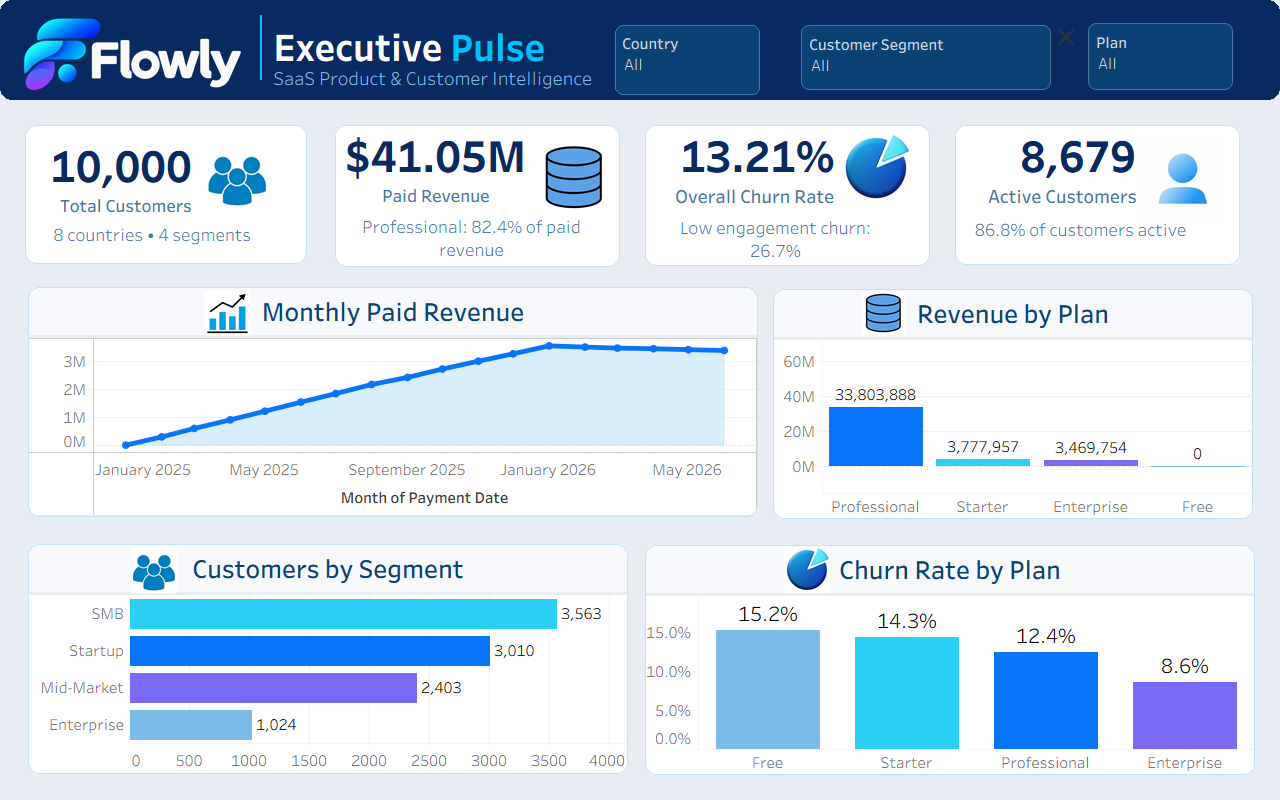

What the dashboard file says about the page in this screenshot:
{"tool":"tableau","page":{"name":"Flowly Executive Pulse","canvas":[1280,800],"ordinal":0},"visuals":[{"type":"image","param":"C:/Users/sneha/Downloads/Glossy Flowly Gradient Logo.png","box":[15,9,230,91]},{"type":"blank","box":[260,15,2,65]},{"type":"filter","title":"Revenue by Plan ","param":"[federated.186rmt7171jtv319xoaxd0jz2uva].[none:plan:nk]","box":[1088,23,145,67]},{"type":"filter","title":"Monthly Paid Revenue","param":"[federated.186rmt7171jtv319xoaxd0jz2uva].[none:country:nk]","box":[615,25,145,70]},{"type":"filter","title":"Customers by Segment","param":"[federated.186rmt7171jtv319xoaxd0jz2uva].[none:customer_segment:nk]","box":[801,25,250,65]},{"type":"dashboard-object","box":[1054,25,24,24]},{"type":"text","box":[270,28,300,35]},{"type":"text","box":[270,58,350,40]},{"type":"worksheet","title":"Total Customers","mark":"Automatic","box":[25,125,282,139]},{"type":"worksheet","title":"Total Revenue","mark":"Automatic","box":[335,125,285,142]},{"type":"worksheet","title":"Overall Churn Rate","mark":"Automatic","box":[645,125,285,141]},{"type":"worksheet","title":"Active Customers","mark":"Automatic","box":[955,125,285,140]},{"type":"image","param":"C:/Users/sneha/Downloads/P4.jpeg","box":[840,132,83,71]},{"type":"image","param":"C:/Users/sneha/Downloads/P2.jpeg","box":[1140,136,89,85]},{"type":"image","param":"C:/Users/sneha/Downloads/P3.jpeg","box":[538,142,79,71]},{"type":"image","param":"C:/Users/sneha/Downloads/P1.jpeg","box":[206,146,63,64]},{"type":"text","box":[356,214,231,48]},{"type":"text","box":[971,214,219,30]},{"type":"text","box":[660,215,231,48]},{"type":"text","box":[50,219,205,30]},{"type":"worksheet","title":"Monthly Paid Revenue","mark":"Automatic","rows":["amount","amount"],"cols":["payment_date"],"box":[28,287,730,230]},{"type":"worksheet","title":"Revenue by Plan ","mark":"Automatic","rows":["amount"],"cols":["plan"],"box":[773,289,480,230]},{"type":"image","param":"C:/Users/sneha/Downloads/P5.jpeg","box":[204,290,48,46]},{"type":"image","param":"C:/Users/sneha/Downloads/P3.jpeg","box":[861,291,48,44]},{"type":"worksheet","title":"Customers by Segment","mark":"Automatic","rows":["customer_segment"],"cols":["customer_id"],"box":[28,544,600,230]},{"type":"worksheet","title":"Churn Rate by Plan","mark":"Automatic","rows":["Calculation_0154532806012935"],"cols":["plan"],"box":[645,545,610,230]},{"type":"image","param":"C:/Users/sneha/Downloads/P4.jpeg","box":[783,546,54,47]},{"type":"image","param":"C:/Users/sneha/Downloads/P1.jpeg","box":[131,547,52,46]}]}

Visuals, with their boxes in screenshot pixels (x1, y1, x2, y2), scaled from the page's 1280x800 canvas onto the 1280x800 screenshot:
image: (left=15, top=9, right=245, bottom=100)
blank: (left=260, top=15, right=262, bottom=80)
"Revenue by Plan " filter: (left=1088, top=23, right=1233, bottom=90)
"Monthly Paid Revenue" filter: (left=615, top=25, right=760, bottom=95)
"Customers by Segment" filter: (left=801, top=25, right=1051, bottom=90)
dashboard-object: (left=1054, top=25, right=1078, bottom=49)
text: (left=270, top=28, right=570, bottom=63)
text: (left=270, top=58, right=620, bottom=98)
"Total Customers" worksheet: (left=25, top=125, right=307, bottom=264)
"Total Revenue" worksheet: (left=335, top=125, right=620, bottom=267)
"Overall Churn Rate" worksheet: (left=645, top=125, right=930, bottom=266)
"Active Customers" worksheet: (left=955, top=125, right=1240, bottom=265)
image: (left=840, top=132, right=923, bottom=203)
image: (left=1140, top=136, right=1229, bottom=221)
image: (left=538, top=142, right=617, bottom=213)
image: (left=206, top=146, right=269, bottom=210)
text: (left=356, top=214, right=587, bottom=262)
text: (left=971, top=214, right=1190, bottom=244)
text: (left=660, top=215, right=891, bottom=263)
text: (left=50, top=219, right=255, bottom=249)
"Monthly Paid Revenue" worksheet: (left=28, top=287, right=758, bottom=517)
"Revenue by Plan " worksheet: (left=773, top=289, right=1253, bottom=519)
image: (left=204, top=290, right=252, bottom=336)
image: (left=861, top=291, right=909, bottom=335)
"Customers by Segment" worksheet: (left=28, top=544, right=628, bottom=774)
"Churn Rate by Plan" worksheet: (left=645, top=545, right=1255, bottom=775)
image: (left=783, top=546, right=837, bottom=593)
image: (left=131, top=547, right=183, bottom=593)
